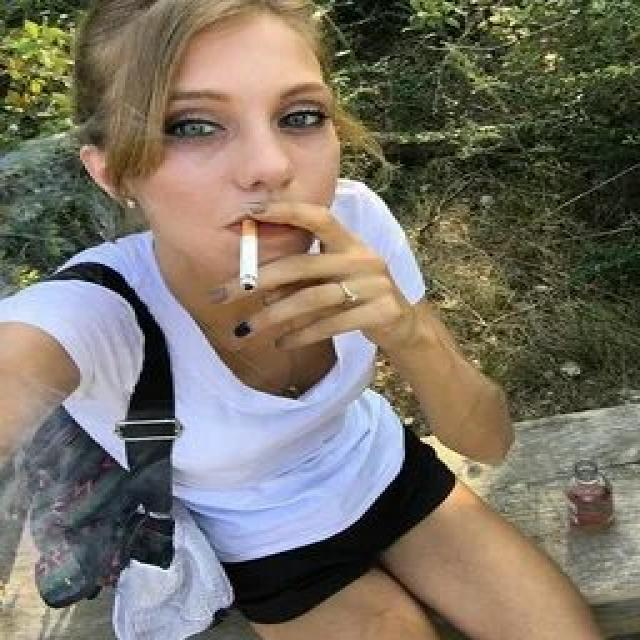smoke: (232, 216, 268, 294)
